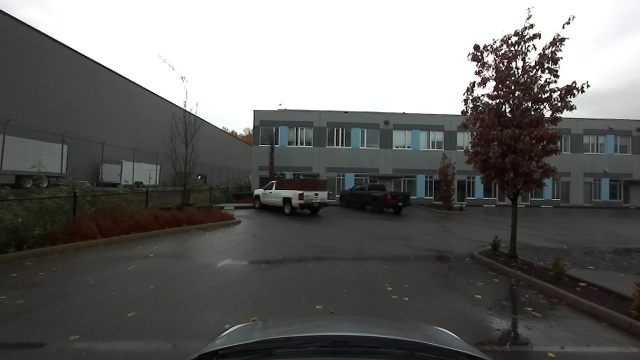car: (250, 178, 332, 218), (337, 175, 413, 218)
